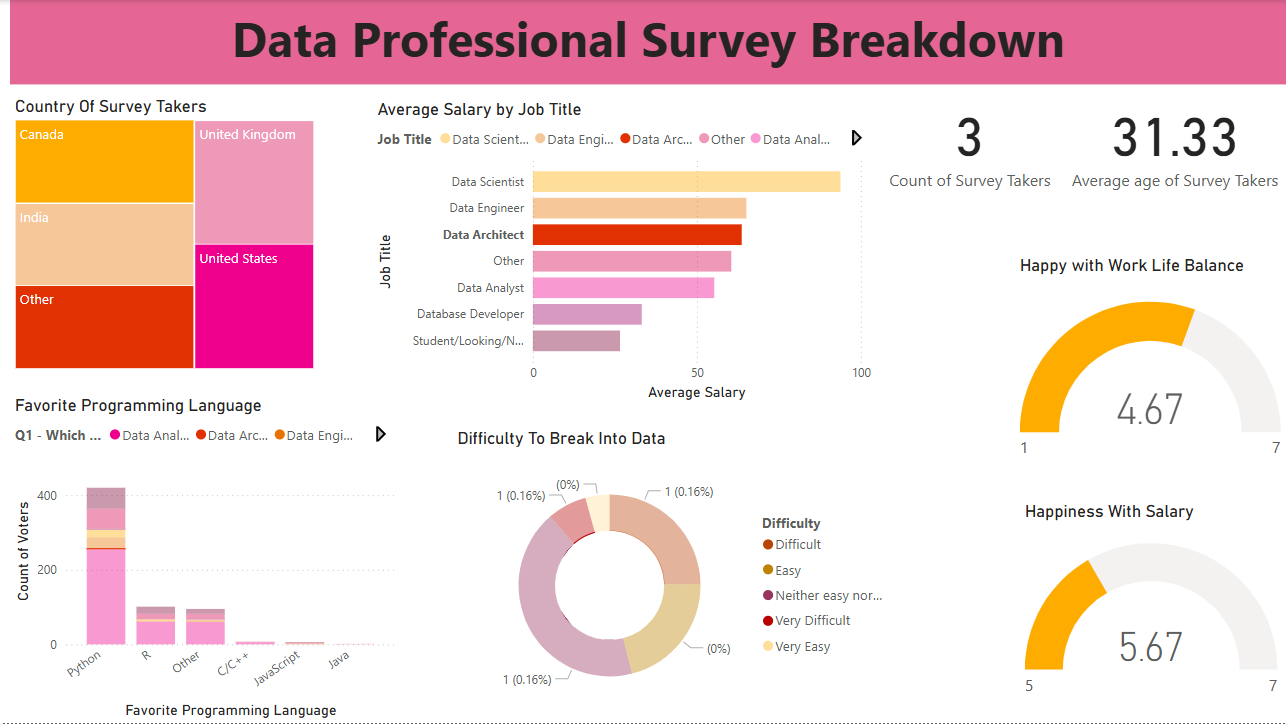

What the dashboard file says about the page in this screenshot:
{"tool":"powerbi","page":{"name":"Page 1","canvas":[1280,720],"ordinal":0},"visuals":[{"type":"textbox","box":[9.6,0,1270.7,83.7],"z":0},{"type":"card","fields":{"Values":["CountNonNull(Data Professional Survey.Unique ID)"]},"box":[870,83.7,188,149.6],"z":1000},{"type":"card","fields":{"Values":["Avg(Data Professional Survey.Q10 - Current Age)"]},"box":[1058,85.1,222.3,148.2],"z":2000},{"type":"filledMap","title":"Average Salary by Job Title","fields":{"Series":["Data Professional Survey.Q11 - Which Country do you live in?.1"]},"box":[705.5,374.5,463.1,284.7],"z":3000},{"type":"columnChart","title":"Favorite Programming Language","fields":{"Category":["Data Professional Survey.Q5 - Favorite Programming Language.1"],"Y":["CountNonNull(Data Professional Survey.Unique ID)"],"Series":["Data Professional Survey.Q1 - Which Title Best Fits your Current Role?.1"]},"box":[9.5,498.5,341.9,222],"z":4000},{"type":"barChart","title":"Average Salary by Job Title","fields":{"Category":["Data Professional Survey.Q1 - Which Title Best Fits your Current Role?.1"],"Y":["Avg(Data Professional Survey.Average Salary)"],"Series":["Data Professional Survey.Q1 - Which Title Best Fits your Current Role?.1"]},"box":[9.5,84.4,603.4,373.2],"z":4001}]}

Visuals, with their boxes in screenshot pixels (x1, y1, x2, y2), scaled from the page's 1280x720 canvas onto the 1286x724 screenshot:
textbox: 10/0/1285/84
card - CountNonNull(Data Professional Survey.Unique ID): 874/84/1063/235
card - Avg(Data Professional Survey.Q10 - Current Age): 1063/86/1285/235
"Average Salary by Job Title" filledMap: 709/377/1174/663
"Favorite Programming Language" columnChart: 10/501/353/723
"Average Salary by Job Title" barChart: 10/85/616/460
